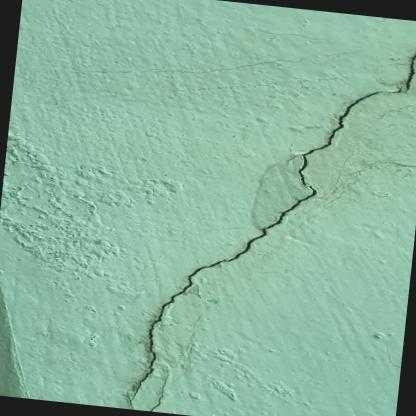crack: (126, 184, 316, 409), (296, 85, 401, 187), (146, 365, 168, 411), (403, 53, 416, 92)
